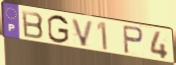1: (96, 21, 109, 52)
4: (149, 31, 170, 61)
B: (21, 9, 45, 40)
G: (46, 14, 70, 45)
P: (121, 24, 145, 55)
V: (70, 17, 96, 48)
